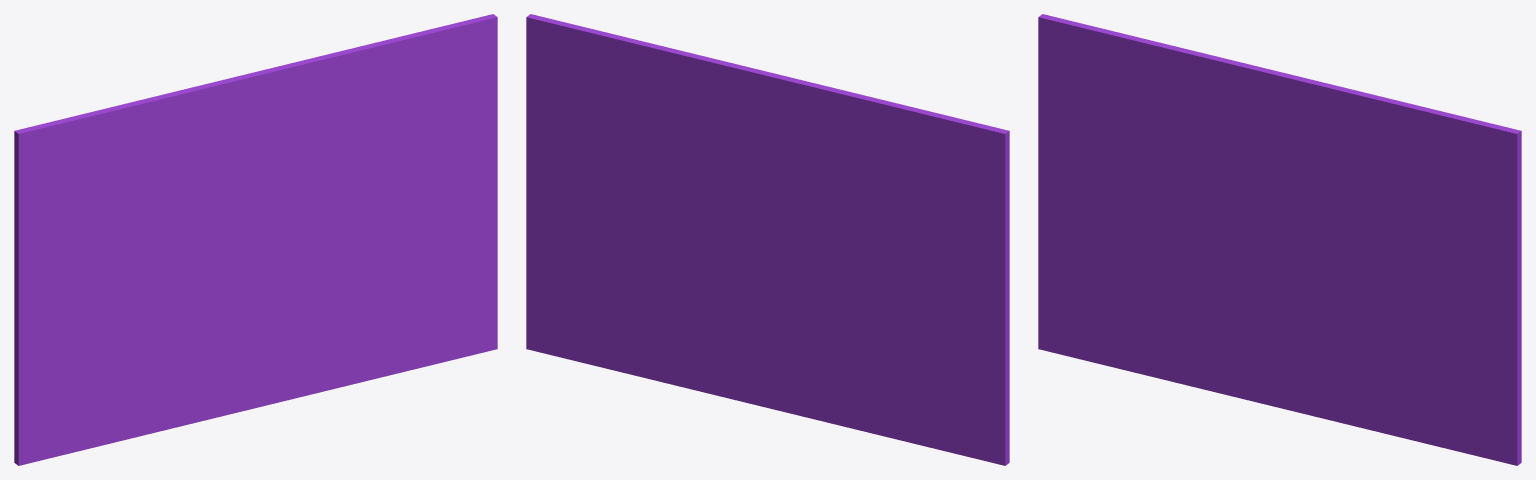
File: Glass_96_chunks.fbx
3 views of the same model, side by side, from view 1: azimuth 30°, elevation 25°; view 2: azimuth 150°, elevation 25°; view 3: azimuth 330°, elevation 25° (orthographic).
Visible parts, largest first — view 1: Glass_96_2, Glass_96_3, Glass_96_1; view 2: Glass_96_2, Glass_96_3, Glass_96_1; view 3: Glass_96_2, Glass_96_3, Glass_96_1.
Boxes of the visible parts, <box> form: Glass_96_2: <box>261,14,497,373</box>; Glass_96_3: <box>14,59,310,345</box>; Glass_96_1: <box>14,246,396,465</box>; Glass_96_2: <box>526,14,764,373</box>; Glass_96_3: <box>711,59,1009,346</box>; Glass_96_1: <box>626,242,1009,465</box>; Glass_96_2: <box>1281,85,1521,465</box>; Glass_96_3: <box>1038,14,1335,239</box>; Glass_96_1: <box>1038,228,1416,441</box>.
Size of the model in its own units: 1728 by 1144 by 27.2.
